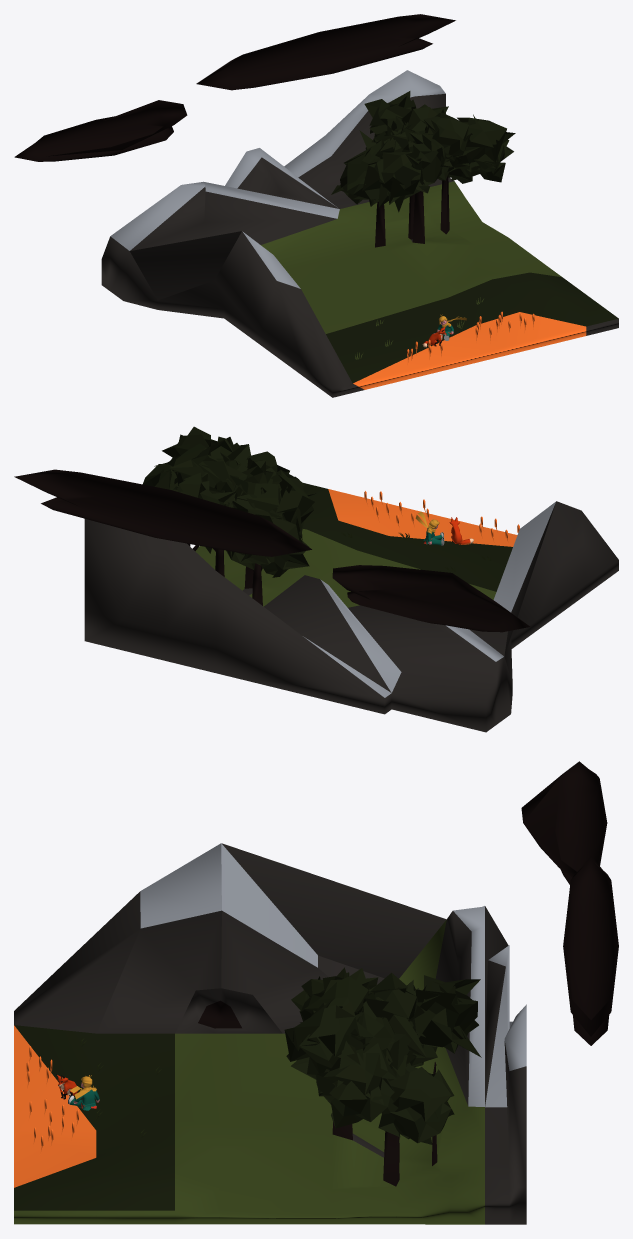
File: EscenaPrincipito.fbx
3 renders of one model, top to bottom at view 1: azimuth 30°, elevation 25°; view 2: azimuth 150°, elevation 25°; view 3: azimuth 270°, elevation 25°, orthographic. The views are drawn at different scales.
Parts seen in each view (by area): view 1: Escenario, Nubes, Hojas; view 2: Escenario, Nubes, Hojas, Trigo, Principito; view 3: Escenario, Hojas, Nubes, Principito, Trigo.
Part boxes in pixels (x1,y1,x2,y2): Escenario: (101, 70, 618, 397); Nubes: (14, 14, 455, 161); Hojas: (331, 91, 515, 212); Escenario: (84, 483, 618, 732); Nubes: (14, 469, 530, 632); Hojas: (142, 426, 315, 577); Trigo: (364, 491, 519, 542); Principito: (415, 511, 444, 545); Escenario: (14, 843, 526, 1224); Hojas: (284, 967, 481, 1144); Nubes: (521, 761, 618, 1045); Principito: (68, 1075, 99, 1110); Trigo: (25, 1046, 78, 1154).
Bounding box in the file's own units: 39.92 × 14.69 × 32.77.
